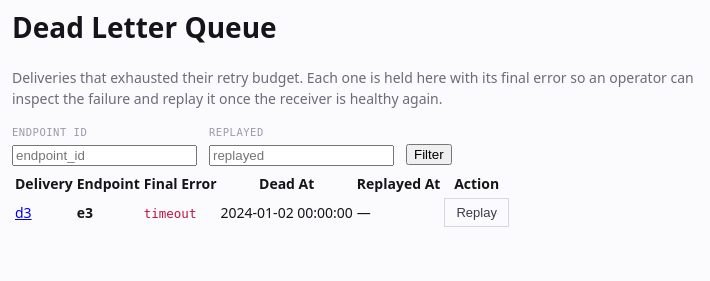
Test: DLQ replay › shows 410 error when replay window expired
Expected: the link "d3" is shown, [15,203,32,222]
What coordinates should you click on to do the following:
click the button "Replay"
I would click on:
 (477, 213)
Its box is [444,198,509,227].
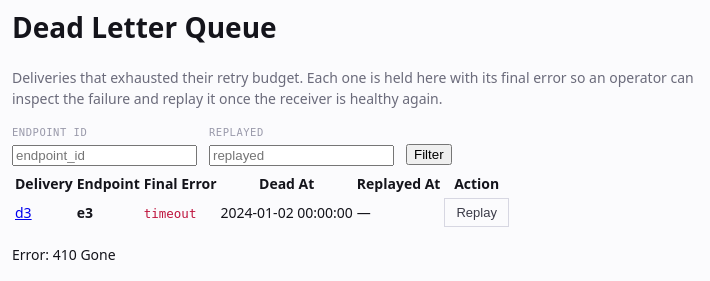
Expected: the text "Error: 410 Gone" is shown, [12,245,116,264]
